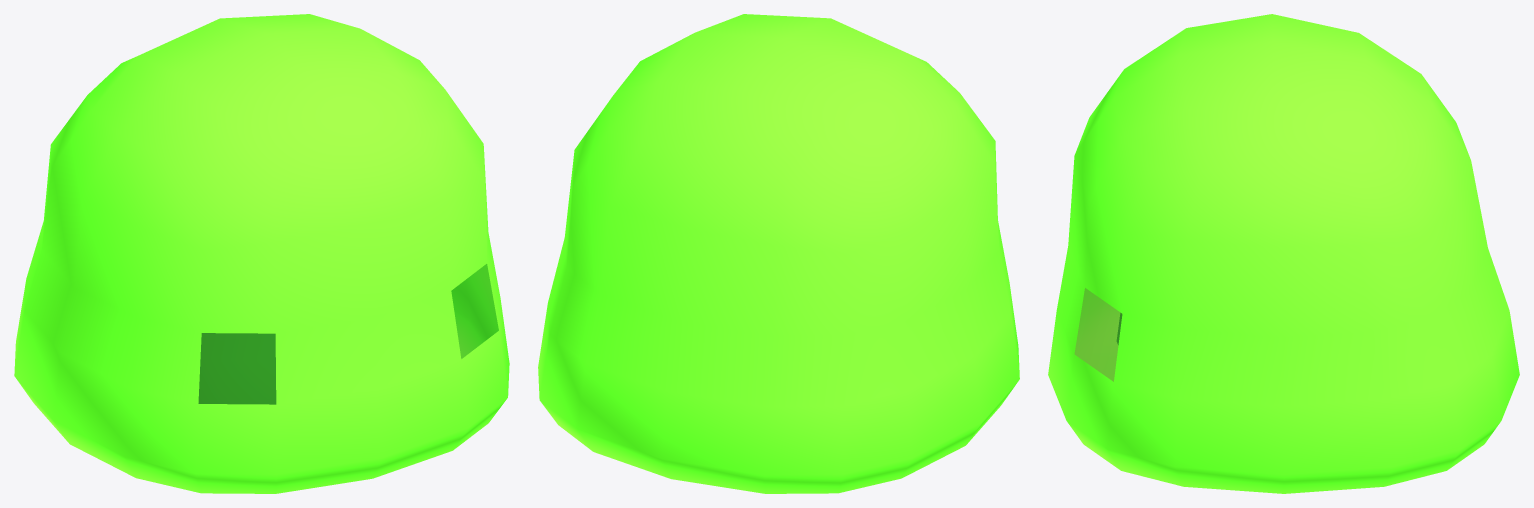
File: Slime Model.glb
3 renders of one model, left to right at view 1: azimuth 30°, elevation 25°; view 2: azimuth 150°, elevation 25°; view 3: azimuth 270°, elevation 25°, orthographic. The views are drawn at different scales.
Parts seen in each view (by area): view 1: Cube; view 2: Cube; view 3: Cube.
Boxes of the visible parts, x1,y1,x2,y2 form: Cube: (14, 14, 509, 493); Cube: (538, 14, 1019, 493); Cube: (1048, 14, 1519, 493).
Bounding box in the file's own units: 6.66 × 5.61 × 6.66.
